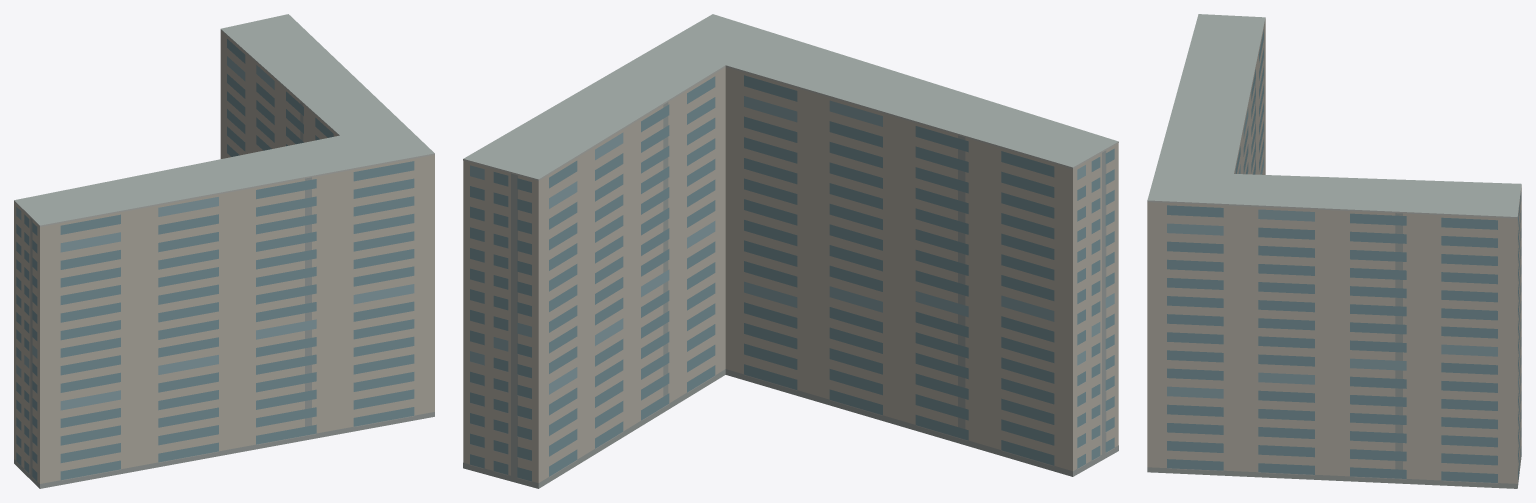
File: residential-85e6718d-5a57-4566-b3a5-d9243e7cb606.glb
3 renders of one model, left to right at view 1: azimuth 30°, elevation 25°; view 2: azimuth 150°, elevation 25°; view 3: azimuth 270°, elevation 25°, orthographic. The views are drawn at different scales.
Visible parts, largest first — view 1: residential-85e6718d-5a57-4566-b3a5-d9243e7cb606.tmp; view 2: residential-85e6718d-5a57-4566-b3a5-d9243e7cb606.tmp; view 3: residential-85e6718d-5a57-4566-b3a5-d9243e7cb606.tmp.
Part boxes in pixels (x1,y1,x2,y2): residential-85e6718d-5a57-4566-b3a5-d9243e7cb606.tmp: (14, 14, 434, 488); residential-85e6718d-5a57-4566-b3a5-d9243e7cb606.tmp: (463, 14, 1118, 488); residential-85e6718d-5a57-4566-b3a5-d9243e7cb606.tmp: (1147, 14, 1521, 488).
Bounding box in the file's own units: 73.33 × 45.75 × 57.1.
